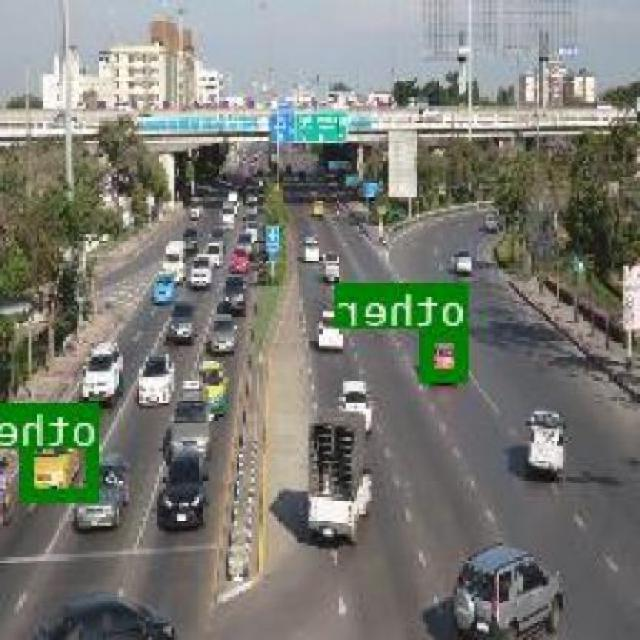other: (24, 402, 104, 500), (424, 326, 470, 379)
